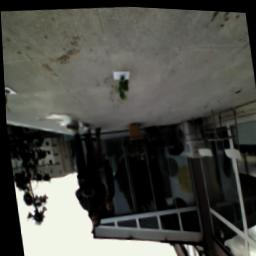herb: (112, 72, 133, 101)
